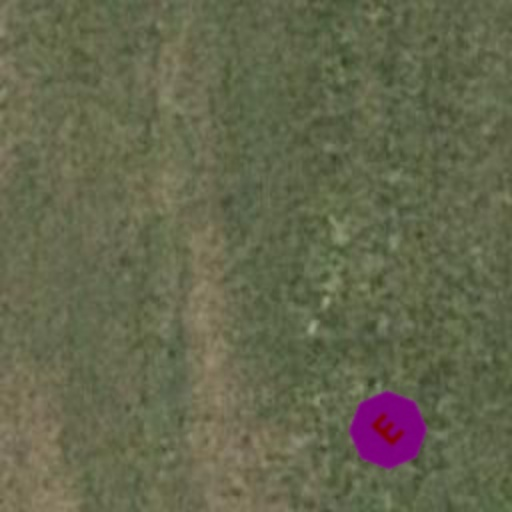octagon: (330, 372, 446, 488)
